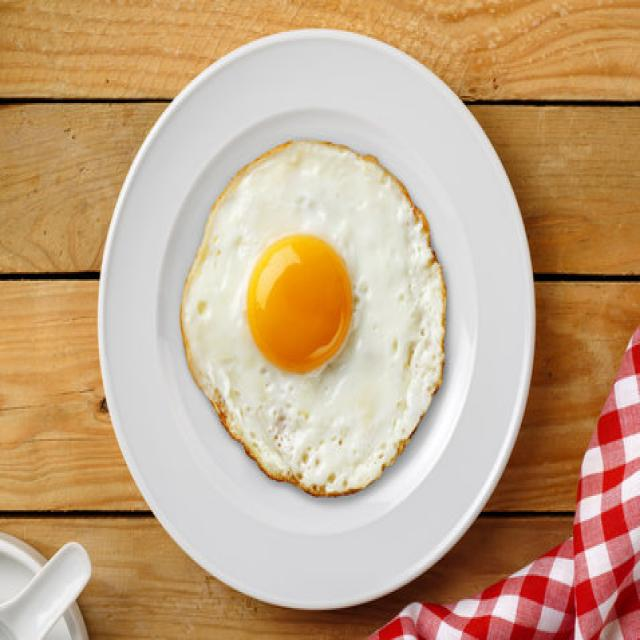Egg: (181, 141, 445, 495)
